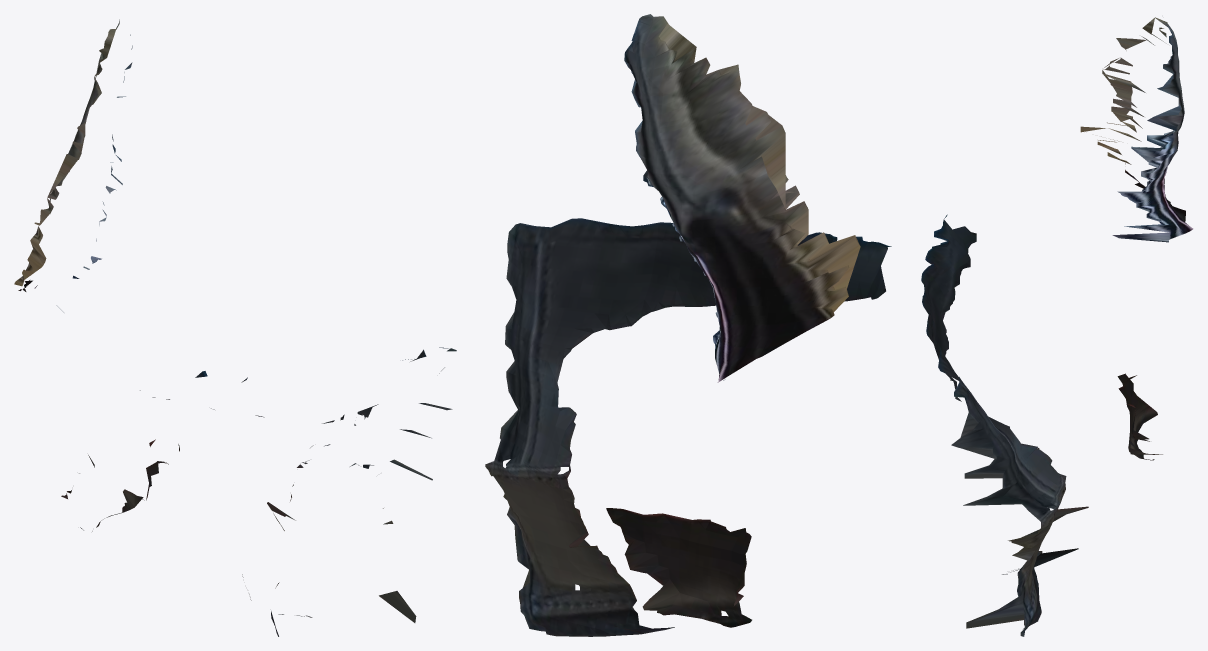
File: observed-surface.glb
3 renders of one model, left to right at view 1: azimuth 30°, elevation 25°; view 2: azimuth 150°, elevation 25°; view 3: azimuth 270°, elevation 25°, orthographic. The views are drawn at different scales.
Parts seen in each view (by area): view 1: geometry_0; view 2: geometry_0; view 3: geometry_0.
Boxes of the visible parts, x1=… form: geometry_0: x1=14, y1=19, x2=456, y2=636; geometry_0: x1=485, y1=14, x2=891, y2=636; geometry_0: x1=921, y1=17, x2=1193, y2=636.
Size of the model in its own units: 0.3867 by 0.6227 by 0.2819.
1 material, 1 textured.
